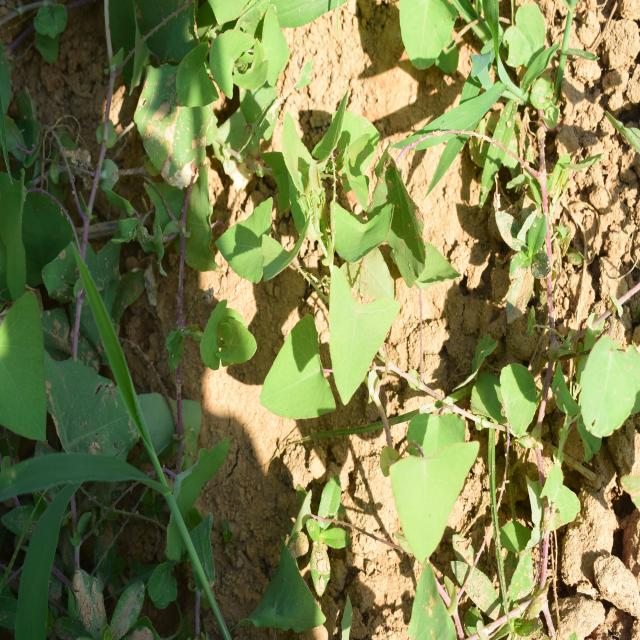Asiatic_Smartweed: (208, 105, 410, 414), (121, 2, 309, 178), (376, 405, 494, 558), (566, 311, 640, 451)
